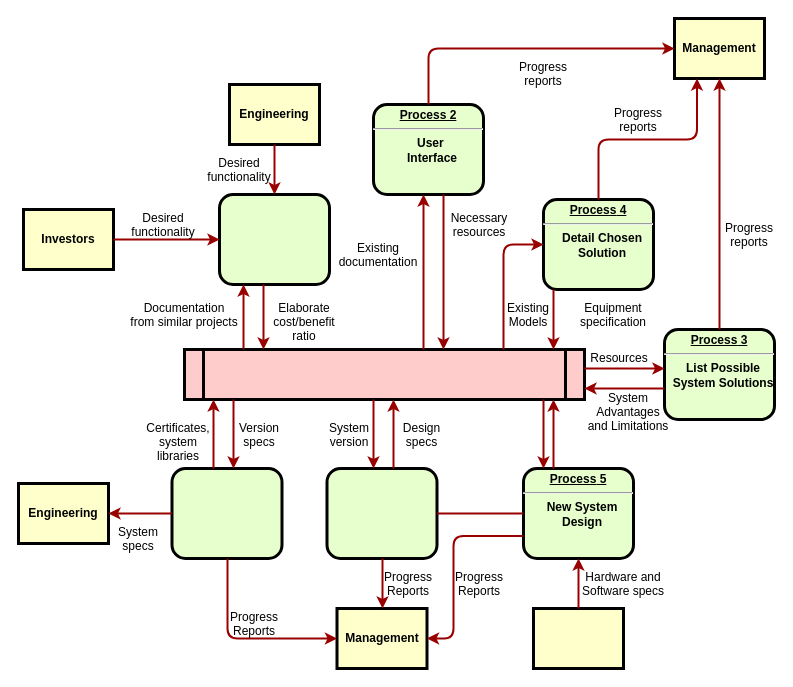
The diagram is 793 pixels wide and 687 high, and some of its shapes have lost their labels. The centre of each missing label's shape, as x and y in pixels:
ON-DEMAND SYSTEM DEVELOPMENT: (384,374)
Process 1 Application Development: (274,239)
Process 6 New System Construction: (226,513)
Process 7 New System Startup and Testing: (381,513)
Vendors: (578,638)
